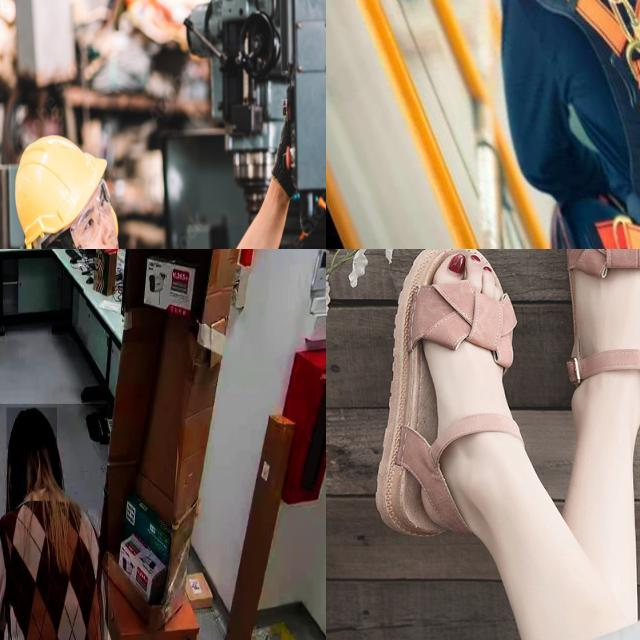Ear-protection: (12, 129, 134, 249)
Sandals: (326, 249, 640, 592)
head_nohelmet: (7, 408, 58, 450)
person: (0, 404, 108, 640)
